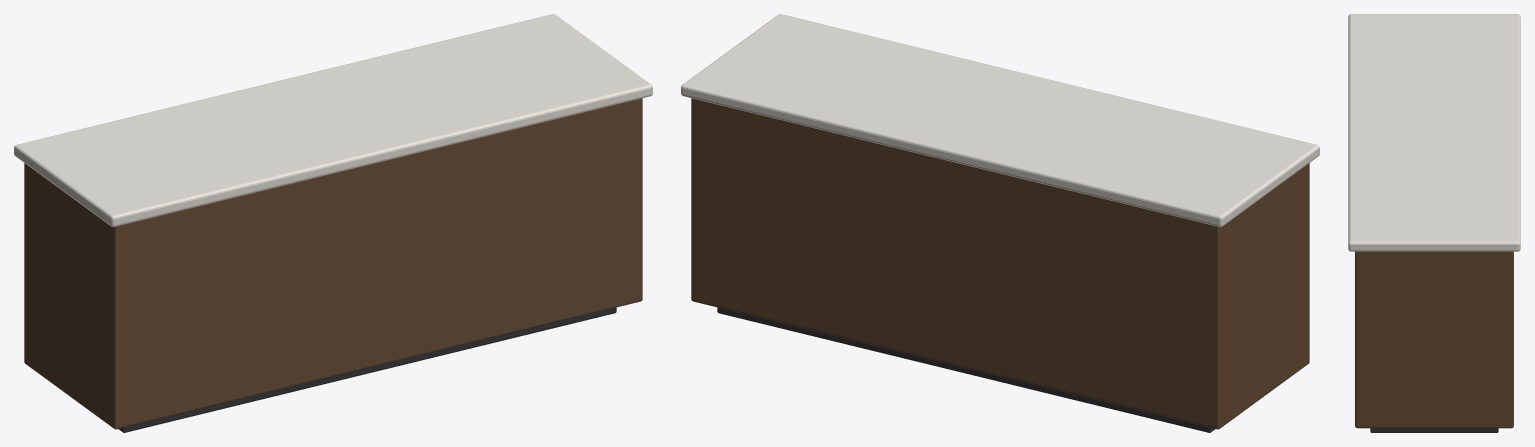
Rendered from retail-counter.glb.
The picture shows the model from 3 angles, left to right: view 1: azimuth 30°, elevation 25°; view 2: azimuth 150°, elevation 25°; view 3: azimuth 270°, elevation 25°; orthographic projection. The views are drawn at different scales.
Parts seen in each view (by area): view 1: counter_body, counter_top, counter_toe; view 2: counter_body, counter_top, counter_toe; view 3: counter_top, counter_body, counter_toe.
Part boxes in pixels (x1,y1,x2,y2): counter_body: (24, 98, 642, 429); counter_top: (14, 14, 652, 227); counter_toe: (118, 307, 616, 432); counter_body: (691, 98, 1309, 429); counter_top: (681, 14, 1319, 227); counter_toe: (717, 307, 1215, 432); counter_top: (1348, 14, 1520, 251); counter_body: (1355, 251, 1513, 428); counter_toe: (1370, 428, 1498, 432).
Bounding box in the file's own units: 2.46 × 1.01 × 0.7801.
